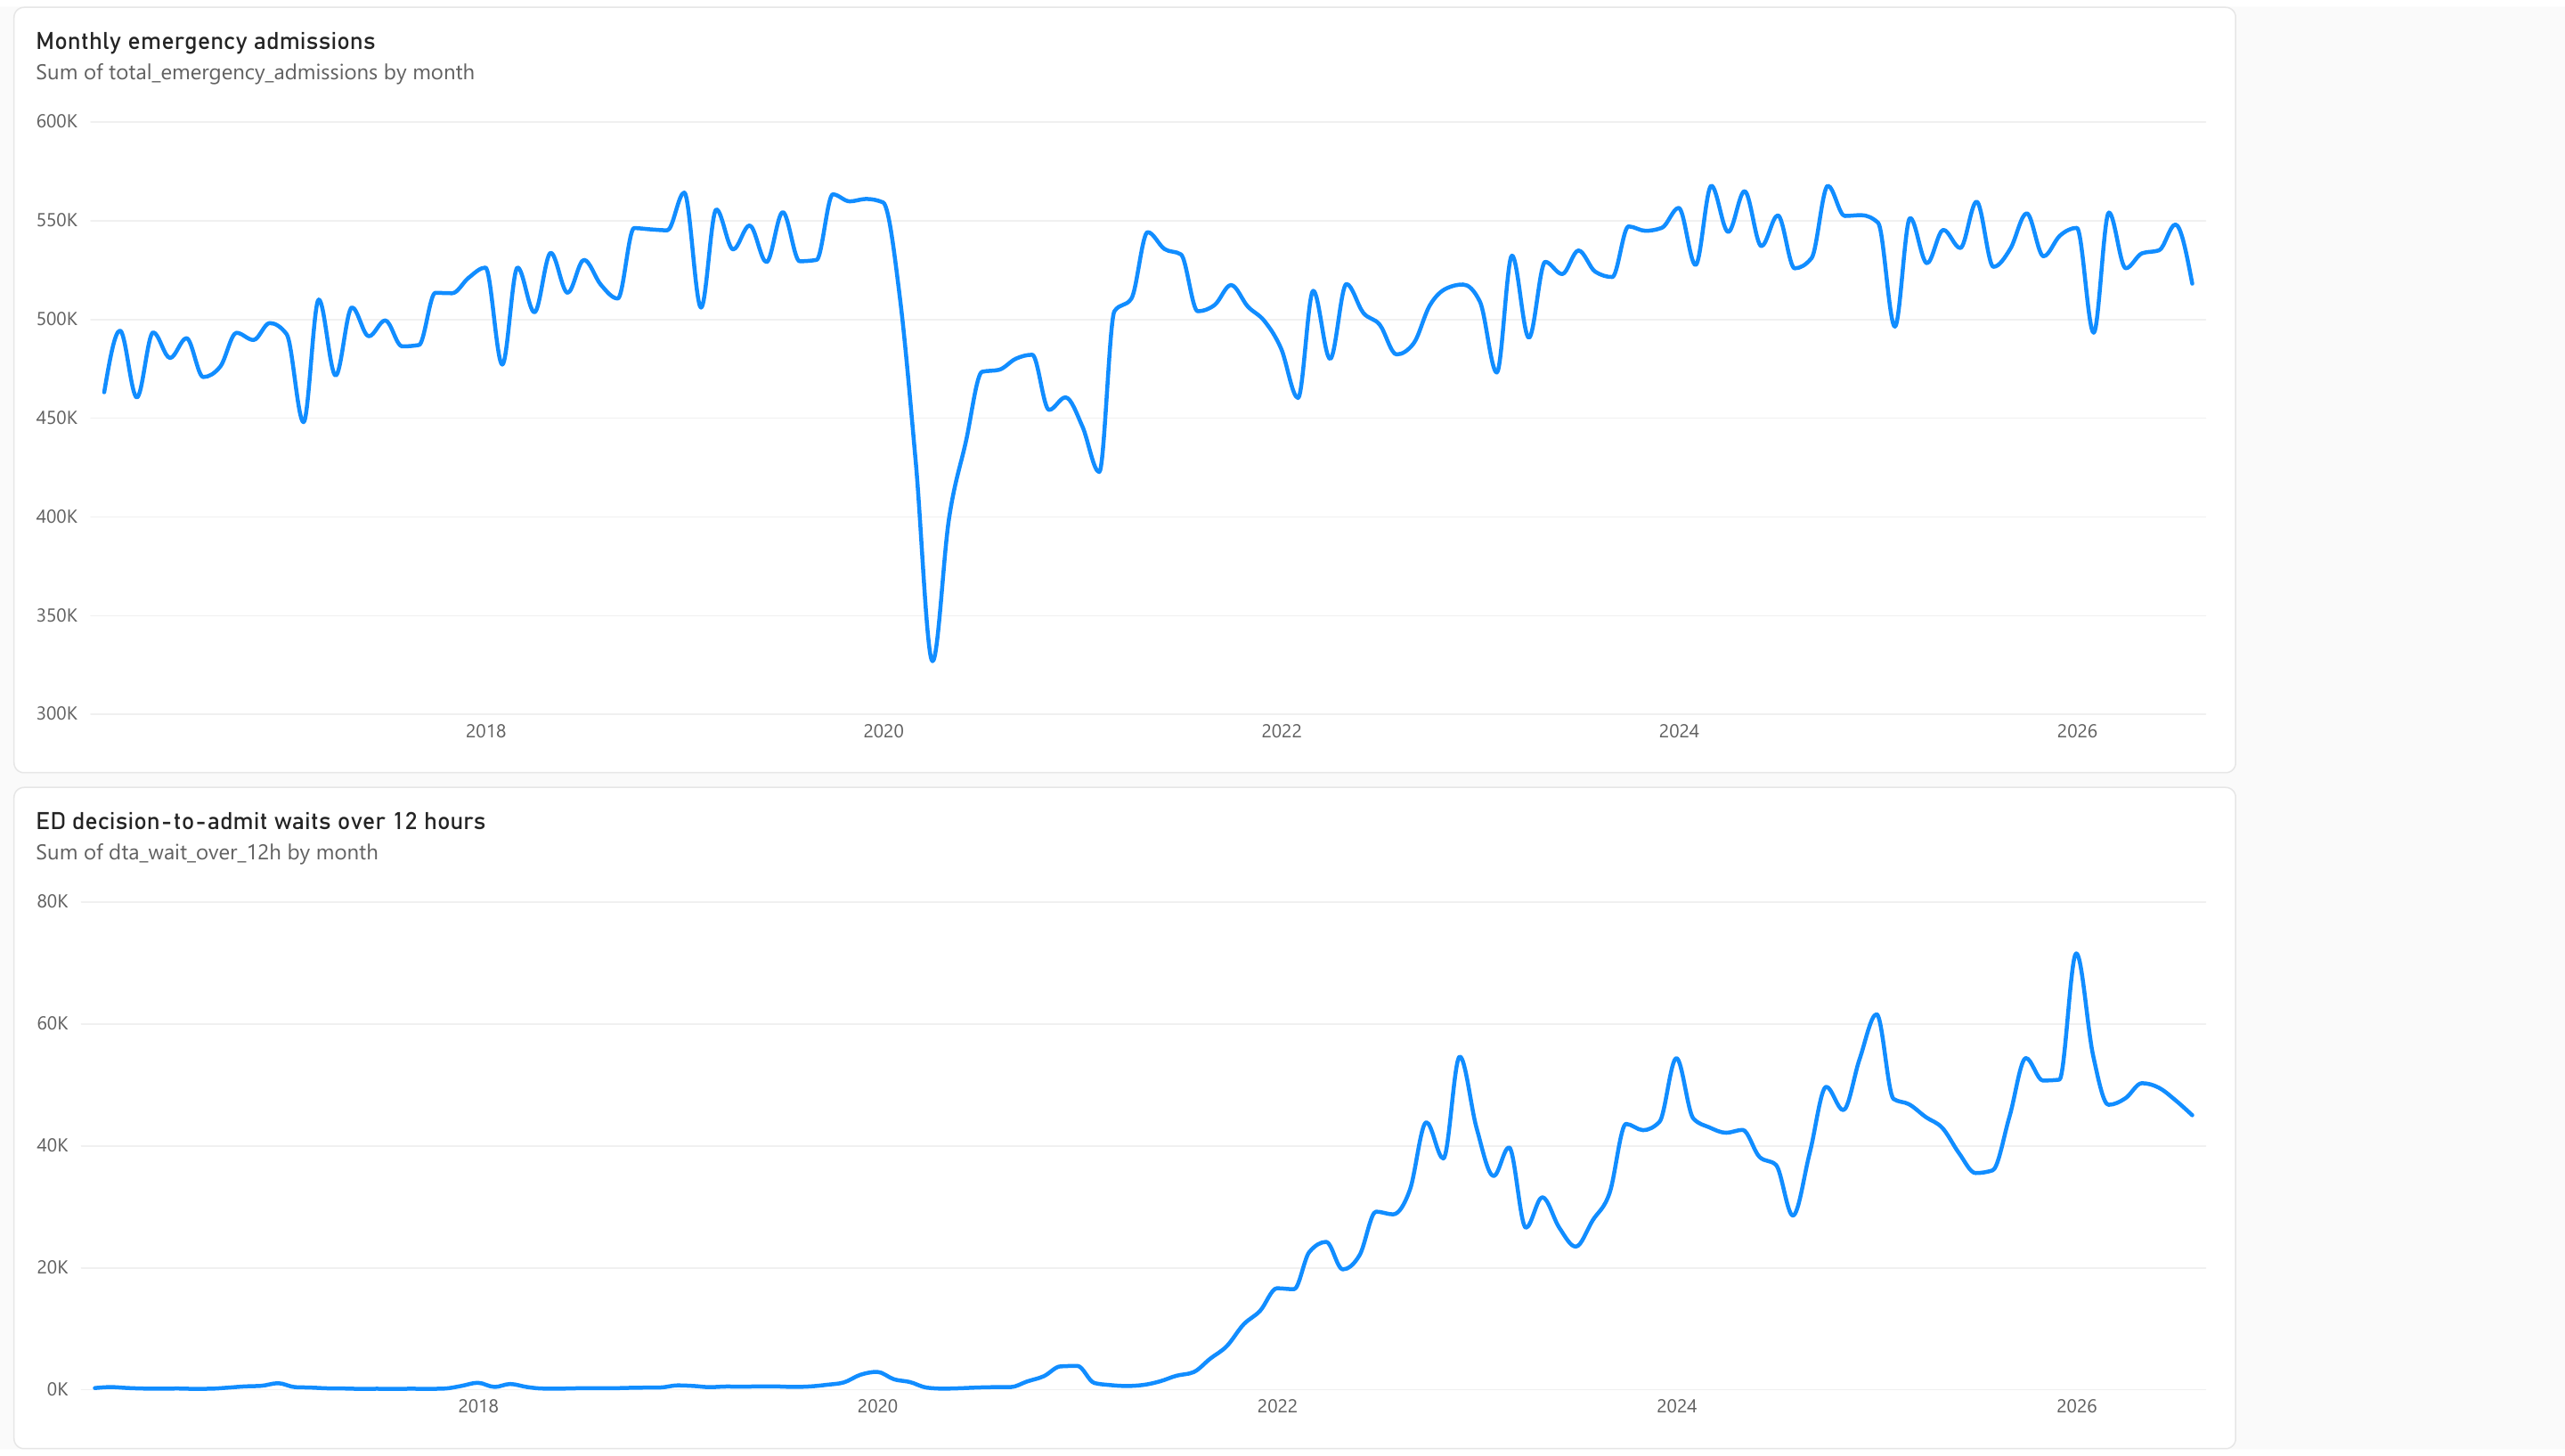

The page's visual inventory and layout, read from the dashboard file:
{"tool":"powerbi","page":{"name":"Emergency demand","canvas":[1920,1080],"ordinal":0},"visuals":[{"type":"lineChart","title":"Monthly emergency admissions","fields":{"Category":["monthly_demand.month"],"Y":["Sum(monthly_demand.total_emergency_admissions)"]},"box":[10.4,0,1664,574.3],"z":1},{"type":"lineChart","title":"ED decision-to-admit waits over 12 hours","fields":{"Category":["monthly_demand.month"],"Y":["Sum(monthly_demand.dta_wait_over_12h)"]},"box":[10,584,1664,496],"z":2}]}

Visuals, with their boxes in screenshot pixels (x1, y1, x2, y2), scaled from the page's 1920x1080 canvas onto the 2565x1456 screenshot:
"Monthly emergency admissions" lineChart: {"x1": 14, "y1": 0, "x2": 2237, "y2": 774}
"ED decision-to-admit waits over 12 hours" lineChart: {"x1": 13, "y1": 787, "x2": 2236, "y2": 1455}
